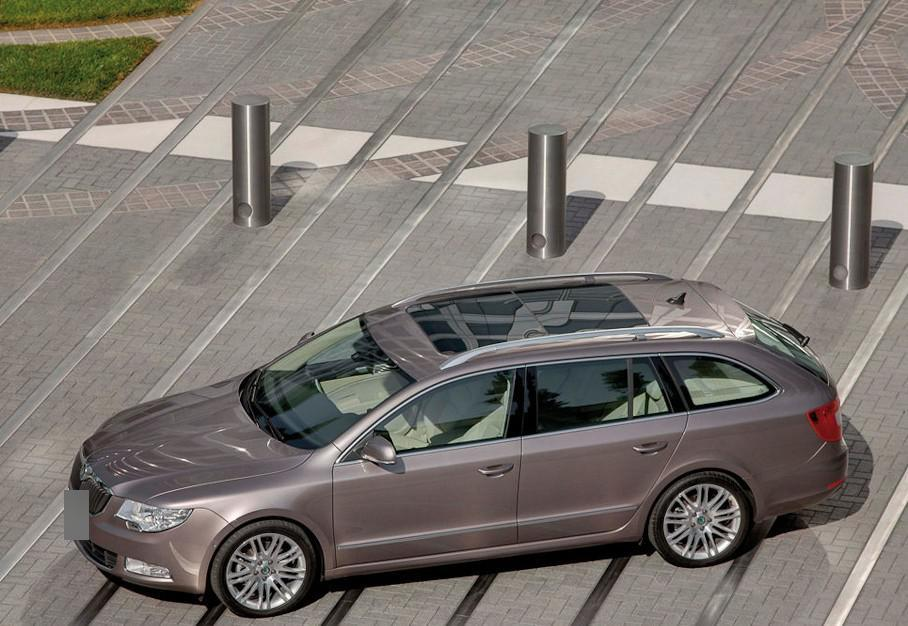Wagon: (67, 272, 848, 619)
